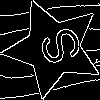S: (28, 23, 85, 73)
